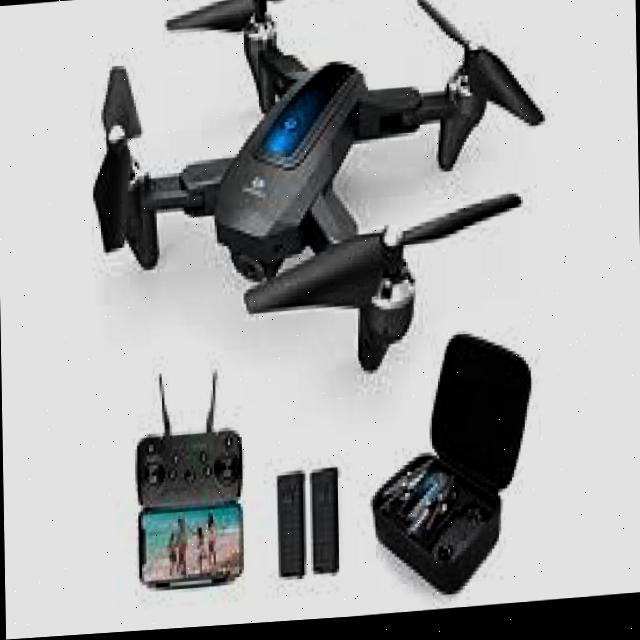drone: (66, 0, 562, 404)
